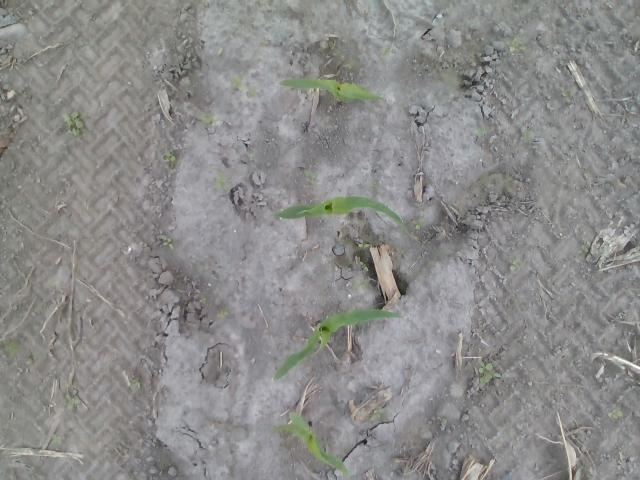Maize: (274, 308, 402, 377), (271, 409, 352, 480), (272, 197, 411, 234), (280, 77, 386, 104)
Weeds: (61, 110, 88, 138), (478, 359, 501, 385), (507, 36, 526, 52), (4, 339, 20, 355), (214, 173, 230, 188), (66, 393, 80, 410), (560, 86, 574, 103), (200, 112, 218, 125), (302, 170, 316, 186), (354, 276, 369, 290), (160, 234, 174, 249), (370, 408, 384, 423), (230, 76, 244, 90), (412, 216, 425, 230), (163, 150, 174, 164), (511, 257, 522, 271), (606, 410, 623, 419), (475, 126, 486, 137), (52, 432, 62, 444), (520, 130, 532, 140), (216, 309, 228, 318), (359, 261, 369, 271), (248, 88, 258, 98), (578, 244, 588, 254), (132, 378, 140, 388), (348, 59, 356, 69), (380, 48, 390, 56), (358, 243, 369, 249), (370, 181, 379, 187), (435, 416, 445, 421), (200, 297, 207, 303), (26, 358, 33, 364), (62, 383, 68, 388)
